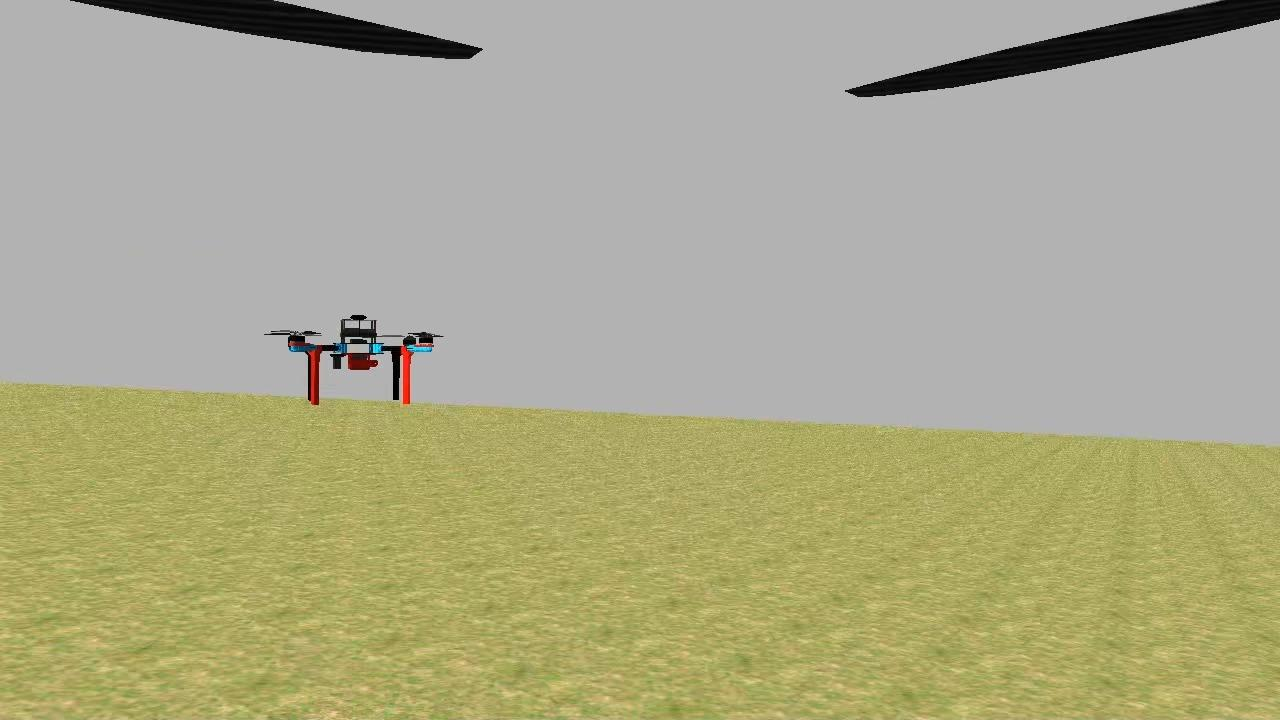UAV: (276, 308, 440, 419)
